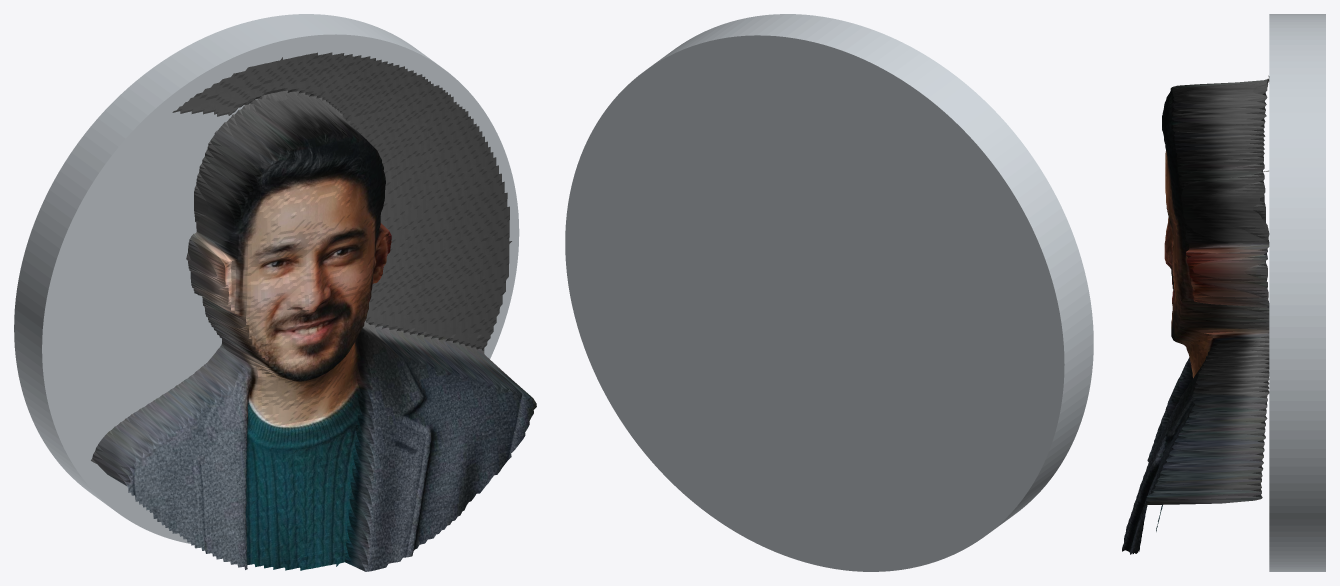
Rendered from portrait-glass.gltf.
3 views of the same model, side by side, from view 1: azimuth 30°, elevation 25°; view 2: azimuth 150°, elevation 25°; view 3: azimuth 270°, elevation 25° (orthographic). The views are drawn at different scales.
Parts seen in each view (by area): view 1: relief, casing; view 2: casing; view 3: relief, casing.
Boxes of the visible parts, box(x1,y1,x2,y2) form: relief: box(91, 52, 536, 571); casing: box(14, 14, 519, 543); casing: box(565, 14, 1093, 571); relief: box(1122, 75, 1269, 554); casing: box(1269, 14, 1325, 571).
Bounding box in the file's own units: 1.38 × 1.38 × 0.5034.
Materials: 2 (1 with a texture image).
